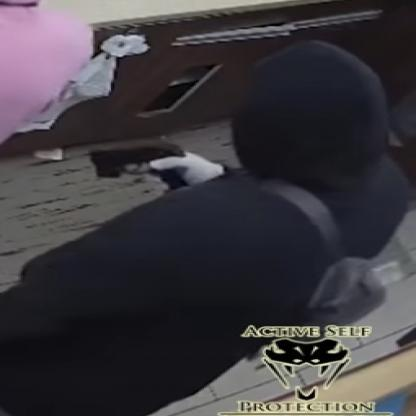weapon: (86, 140, 192, 193)
